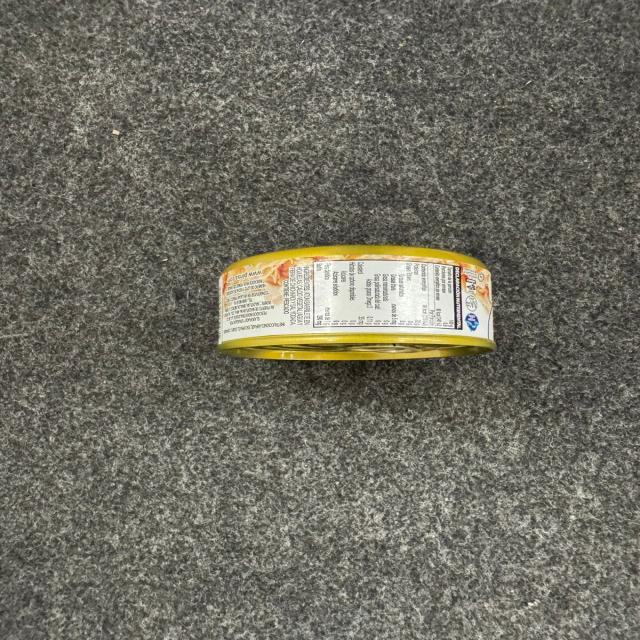Atun Mazatun Agua Sin Soya 130grs: (216, 244, 497, 361)
